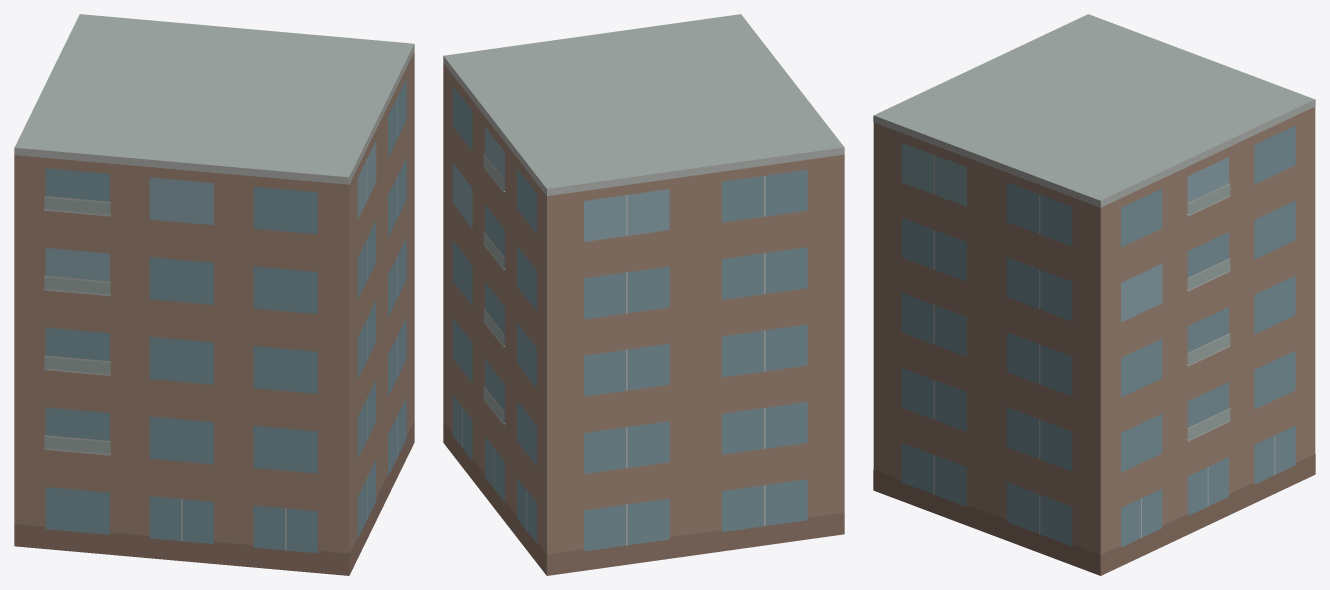
File: survey-upis-32777523.glb
3 views of the same model, side by side, from view 1: azimuth 30°, elevation 25°; view 2: azimuth 150°, elevation 25°; view 3: azimuth 270°, elevation 25° (orthographic). The views are drawn at different scales.
Visible parts, largest first — view 1: survey-upis-32777523.tmp; view 2: survey-upis-32777523.tmp; view 3: survey-upis-32777523.tmp.
Boxes of the visible parts, <box> form: survey-upis-32777523.tmp: <box>14,14,414,575</box>; survey-upis-32777523.tmp: <box>443,14,844,575</box>; survey-upis-32777523.tmp: <box>873,14,1315,575</box>.
Size of the model in its own units: 14.01 by 13.11 by 14.
